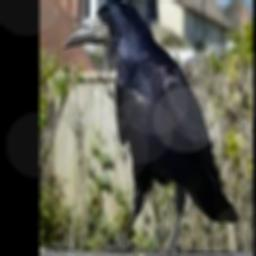Crow: (63, 0, 238, 255)
